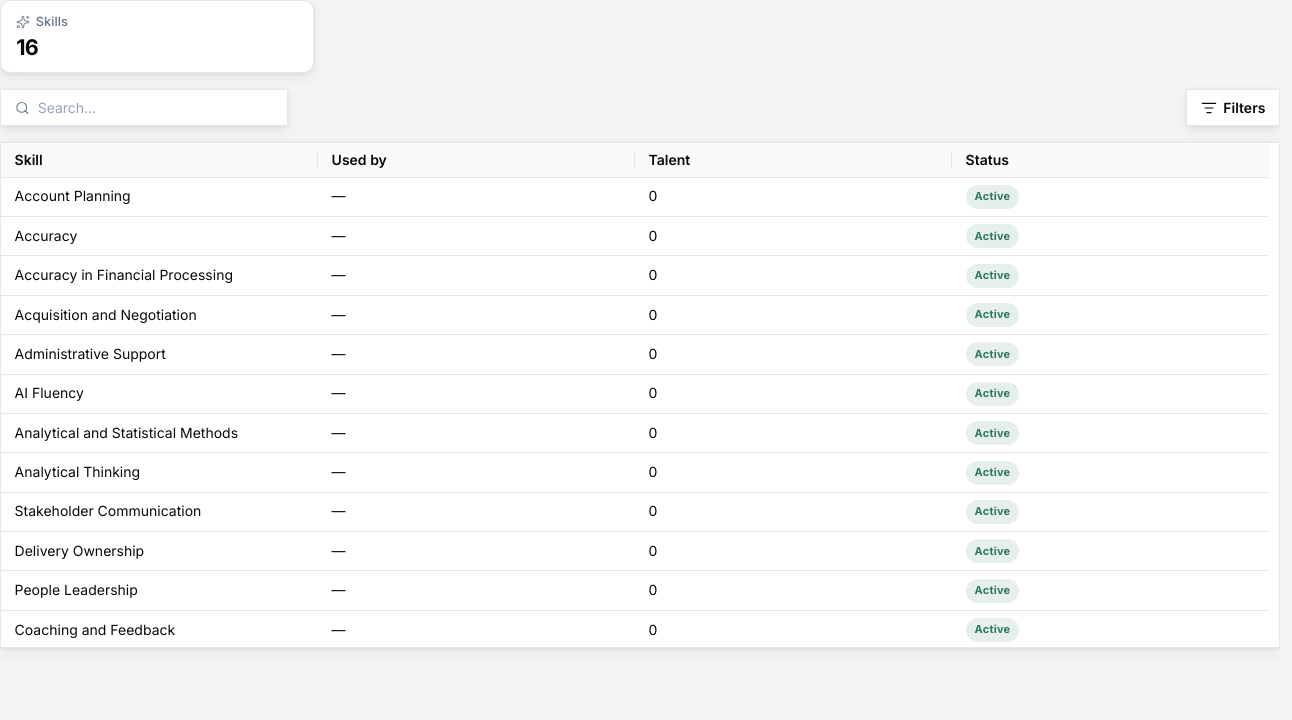
SkillsLibrary › lets viewers open skill detail without edit controls
The width and height of the screenshot is (1292, 720).
Click the text "Account Planning" at (160, 197), box [1, 177, 318, 217]
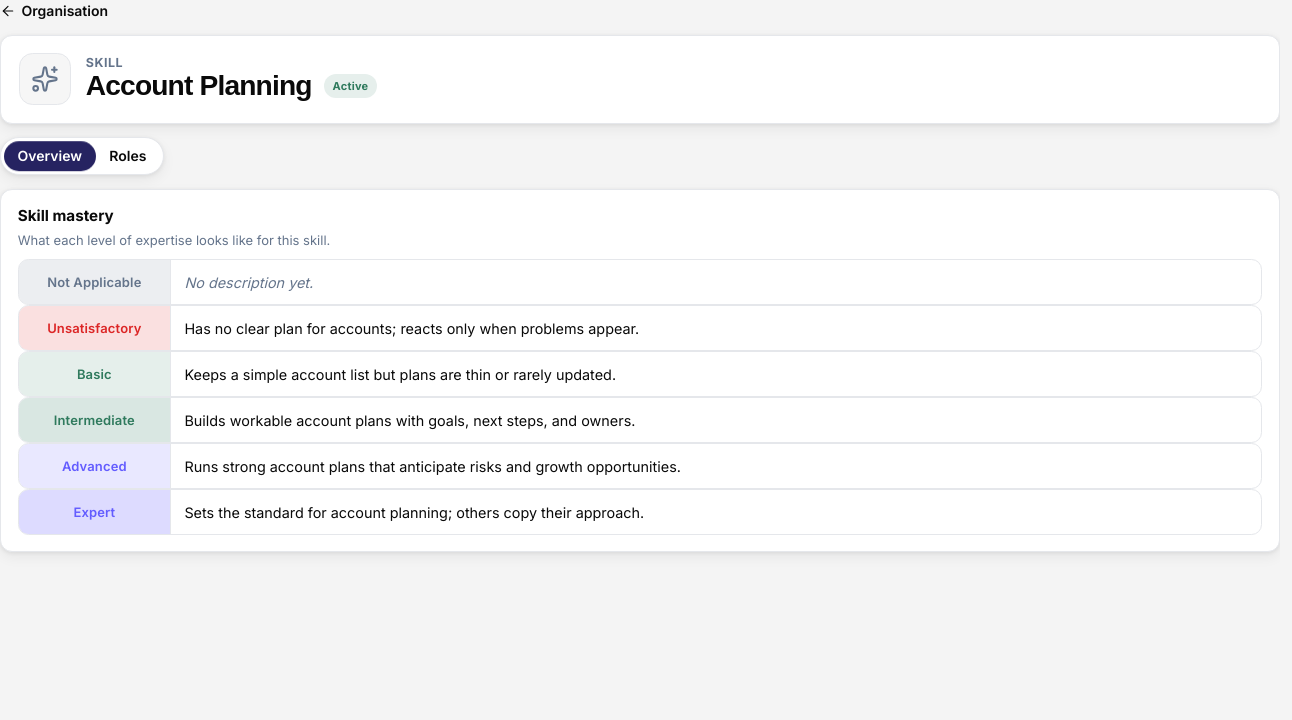
Expected: the heading "Account Planning" is shown, [86, 71, 312, 102]
